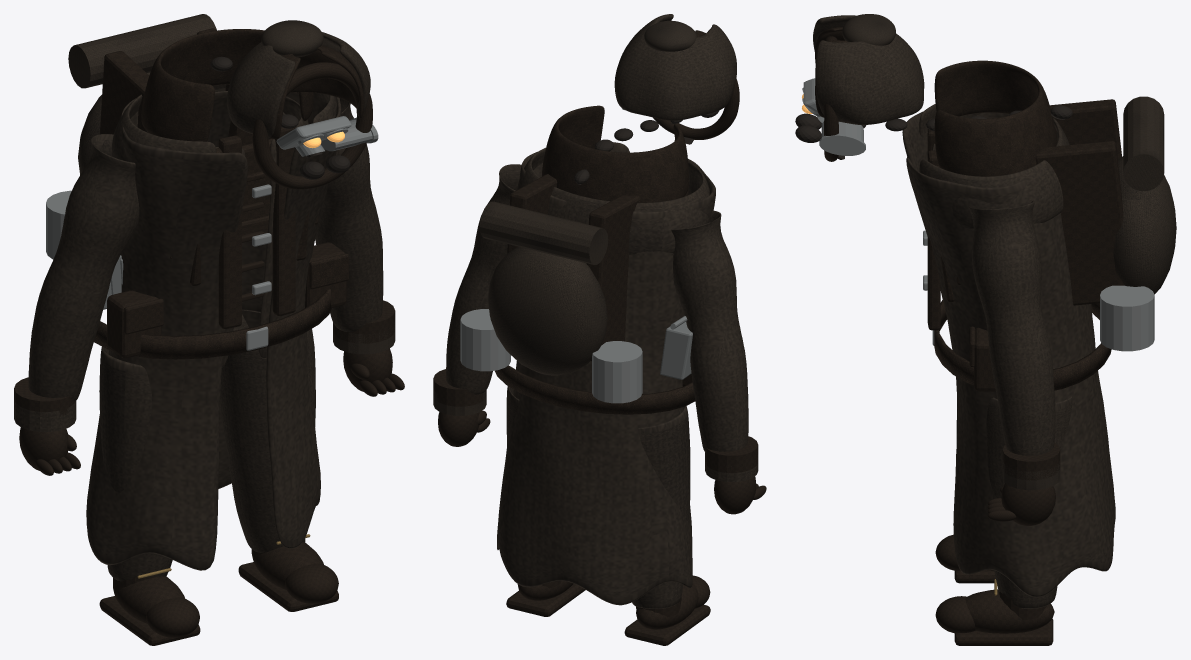
File: collector_creature_v3.glb
3 renders of one model, left to right at view 1: azimuth 30°, elevation 25°; view 2: azimuth 150°, elevation 25°; view 3: azimuth 270°, elevation 25°, orthographic. The views are drawn at different scales.
Parts seen in each view (by area): view 1: V3_Coat, V3_Sleeve_L, V3_Pant_R, V3_Collar, V3_Sleeve_R, V3_Pant_L, V3_Hood, V3_Belt, V3_Pack_Roll, V3_Shirt, V3_HoodBrim, V3_Lapel_R.001 (+26 smaller); view 2: V3_Coat, V3_Sleeve_L, V3_Pack_Sack, V3_Hood, V3_Collar, V3_Pack_Roll, V3_Sleeve_R, V3_ShoulderCape, V3_Pant_L, V3_Pack_Strap_L, V3_Belt, V3_Pack_Pot_L (+15 smaller); view 3: V3_Coat, V3_Sleeve_R, V3_Collar, V3_Pack_Strap_R, V3_Hood, V3_Pack_Sack, V3_ShoulderCape, V3_Pack_Roll, V3_Pack_Pot_R, V3_Pant_R, V3_Belt, V3_Pack_Strap_L (+12 smaller).
Part boxes in pixels (x1,y1,x2,y2): V3_Coat: (86,88,341,570); V3_Sleeve_L: (28,134,139,401); V3_Pant_R: (219,314,315,552); V3_Collar: (141,29,313,141); V3_Sleeve_R: (283,98,383,331); V3_Pant_L: (99,346,172,581); V3_Hood: (227,32,370,137); V3_Belt: (94,289,331,359); V3_Pack_Roll: (68,14,216,88); V3_Shirt: (145,91,308,367); V3_HoodBrim: (252,62,372,189); V3_Lapel_R.001: (272,127,295,316); V3_Coat: (497,142,715,605); V3_Sleeve_L: (671,210,748,452); V3_Pack_Sack: (487,246,607,375); V3_Hood: (614,14,736,120); V3_Collar: (542,105,688,202); V3_Pack_Roll: (479,201,608,264); V3_Sleeve_R: (446,164,521,394); V3_ShoulderCape: (517,147,709,254); V3_Pant_L: (632,406,690,608); V3_Pack_Strap_L: (586,195,640,361); V3_Belt: (495,365,695,414); V3_Pack_Pot_L: (592,341,642,403); V3_Coat: (902,111,1115,597); V3_Sleeve_R: (969,200,1055,455); V3_Collar: (934,60,1056,176); V3_Pack_Strap_R: (1035,141,1124,305); V3_Hood: (813,15,924,124); V3_Pack_Sack: (1113,156,1176,294); V3_ShoulderCape: (919,104,1069,230); V3_Pack_Roll: (1123,96,1164,190); V3_Pack_Pot_R: (1100,285,1154,351); V3_Pant_R: (986,396,1072,608); V3_Belt: (934,300,1111,390); V3_Pack_Strap_L: (1050,99,1121,159).
Size of the model in its own units: 1.45 by 2.36 by 1.39.
10 materials, 3 textured.
